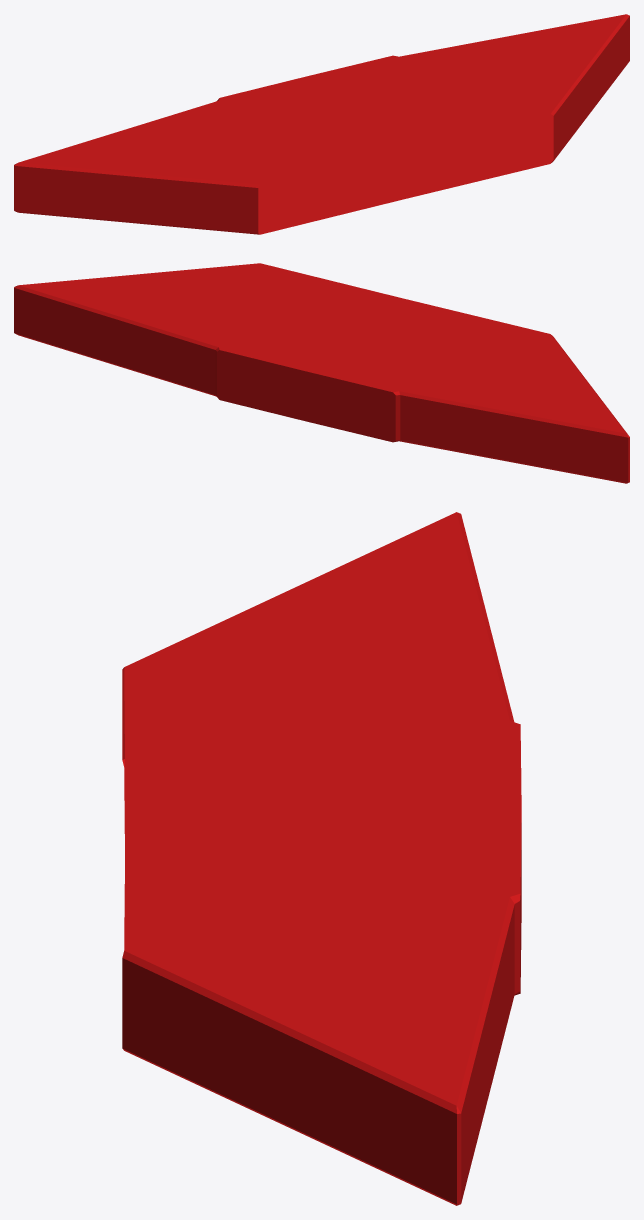
Rendered from star1.obj.
The picture shows the model from 3 angles, top to bottom: view 1: azimuth 30°, elevation 25°; view 2: azimuth 150°, elevation 25°; view 3: azimuth 270°, elevation 25°; orthographic projection. The views are drawn at different scales.
Visible parts, largest first — view 1: Circle.002; view 2: Circle.002; view 3: Circle.002.
Boxes of the visible parts, <box> form: Circle.002: <box>14,14,629,234</box>; Circle.002: <box>14,263,629,483</box>; Circle.002: <box>122,512,521,1205</box>.
Size of the model in its own units: 1.89 by 0.147 by 0.5313.
